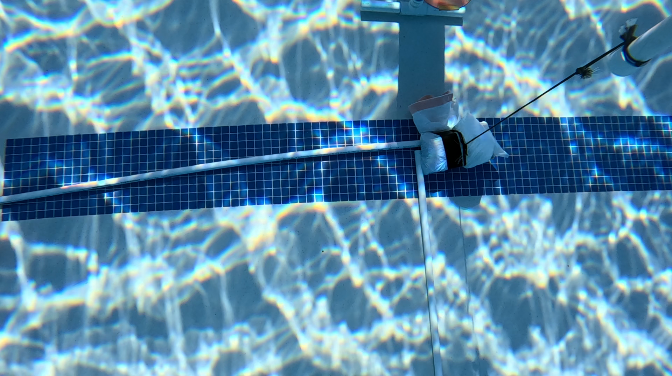pathmarker: (424, 0, 470, 10)
